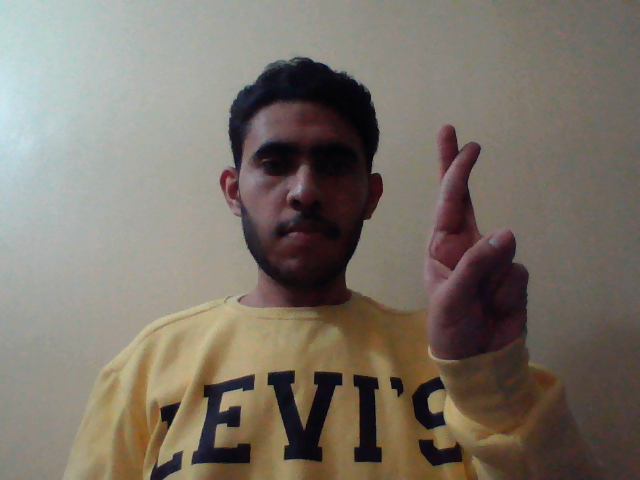R: (422, 118, 535, 378)
